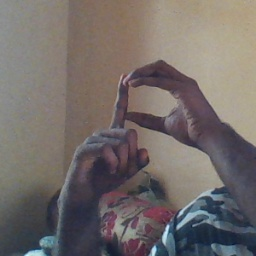P: (77, 59, 212, 182)
